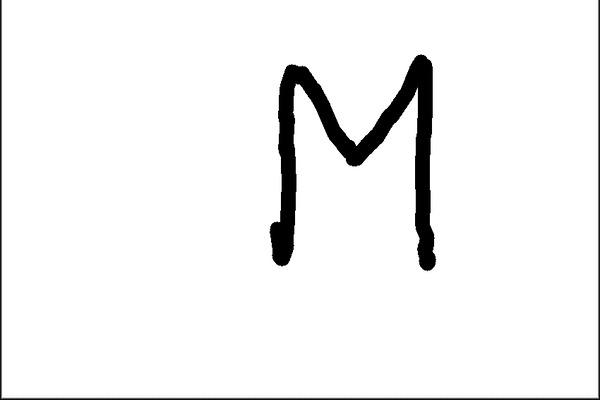M: (268, 54, 444, 274)
